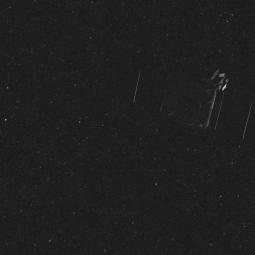soho: (139, 58, 255, 138)
